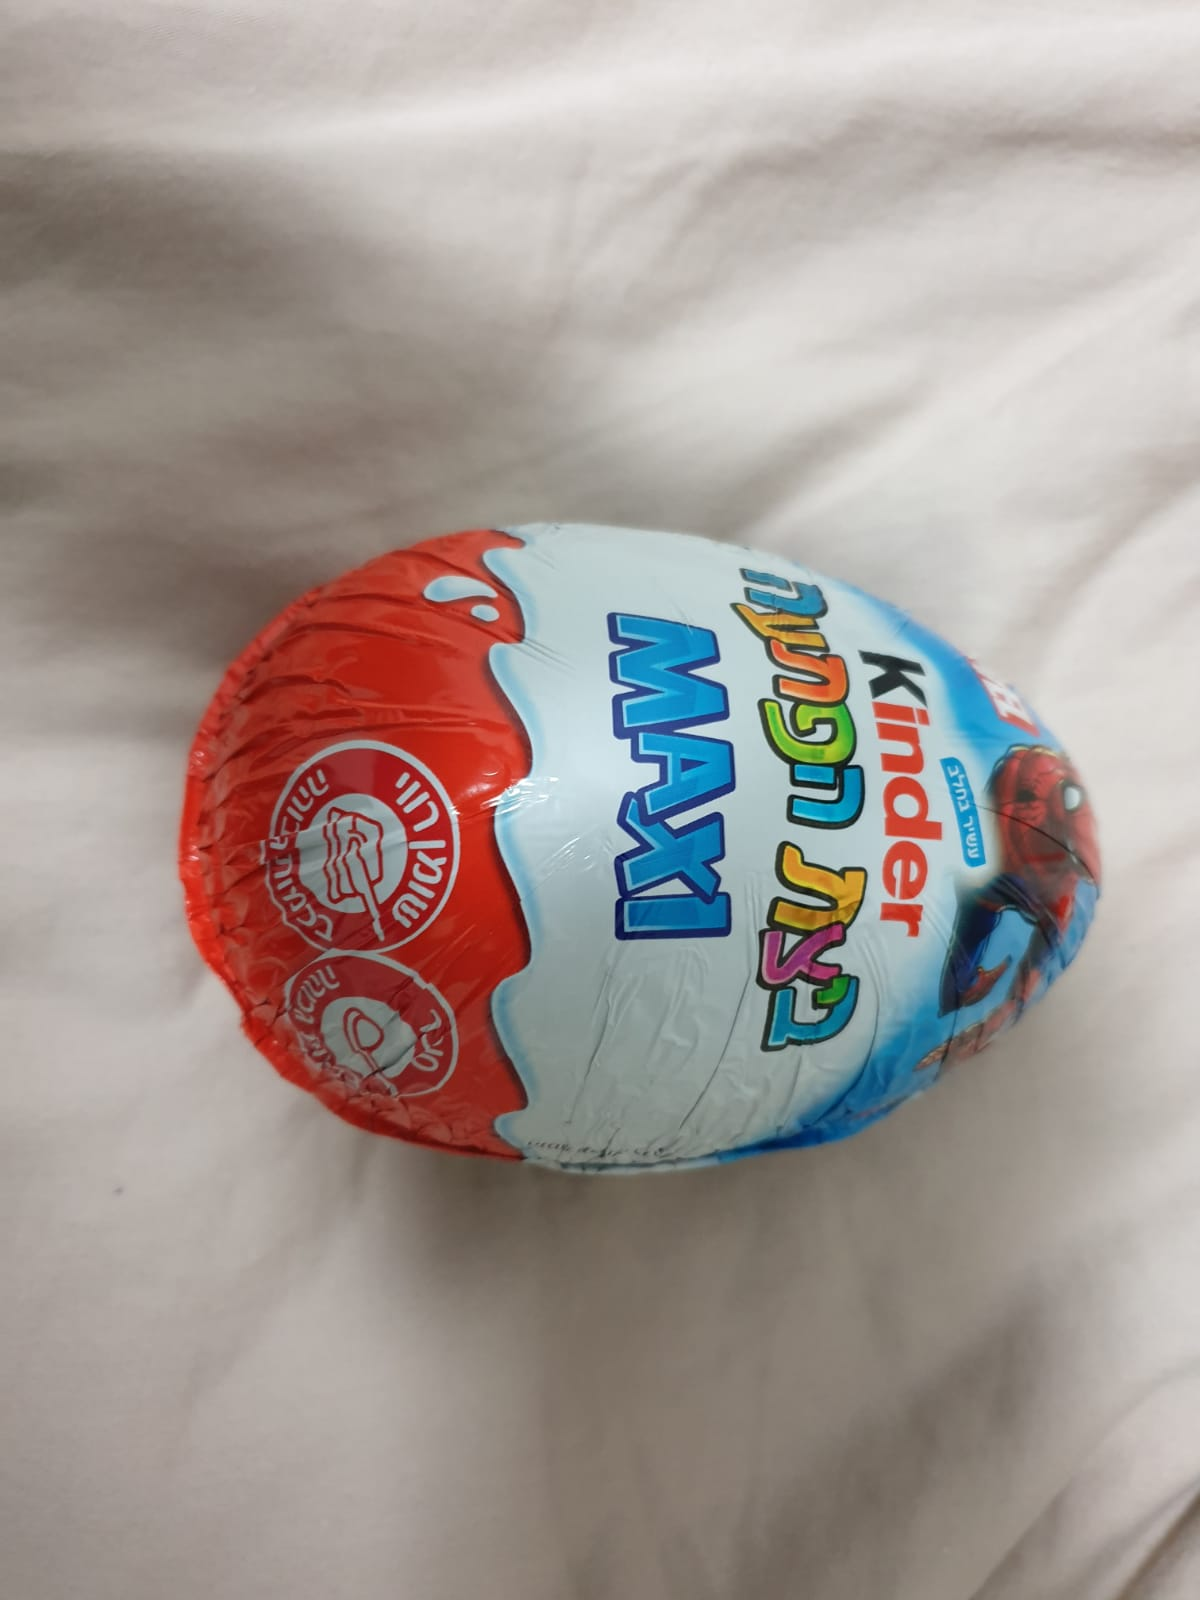fat: (261, 738, 463, 956)
sugar: (281, 952, 463, 1104)
